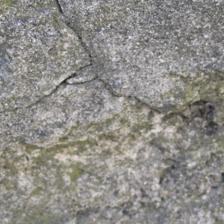Crack: (34, 21, 78, 114), (0, 33, 105, 67), (93, 33, 137, 89)
